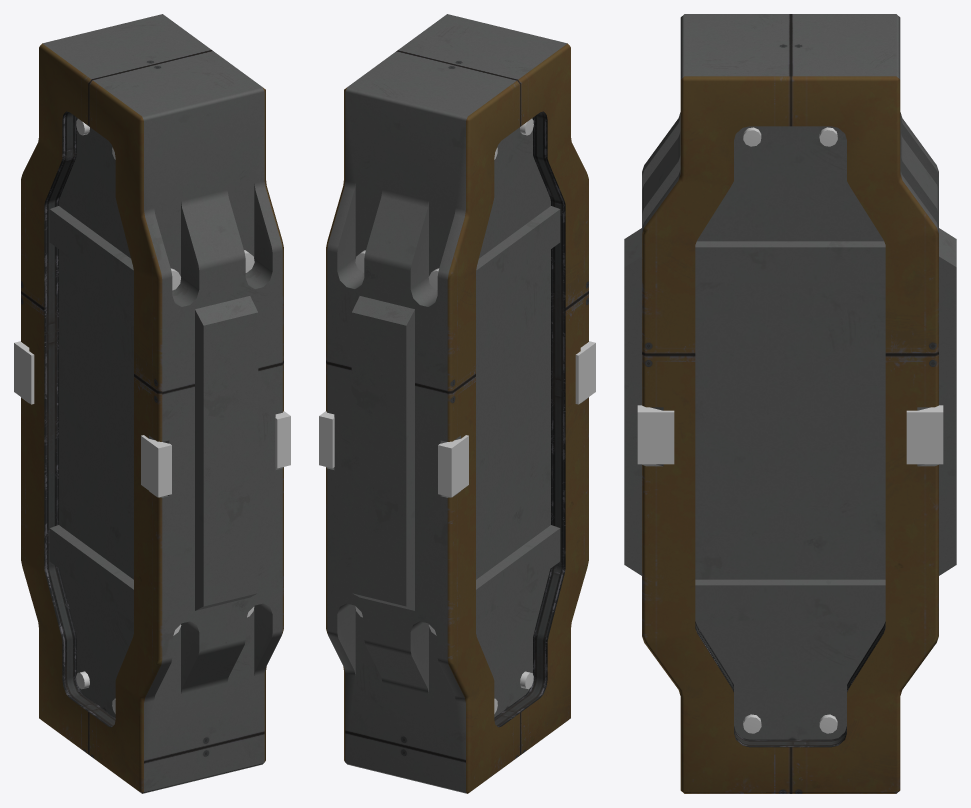
Rendered from Subway_Courner3_L1.fbx.
3 renders of one model, left to right at view 1: azimuth 30°, elevation 25°; view 2: azimuth 150°, elevation 25°; view 3: azimuth 270°, elevation 25°, orthographic. The views are drawn at different scales.
Parts seen in each view (by area): view 1: polySurface922; view 2: polySurface922; view 3: polySurface922.
Boxes of the visible parts, x1,y1,x2,y2 form: polySurface922: (14,14,290,793); polySurface922: (319,14,595,793); polySurface922: (624,14,956,793).
Bounding box in the file's own units: 81.96 × 400 × 168.
